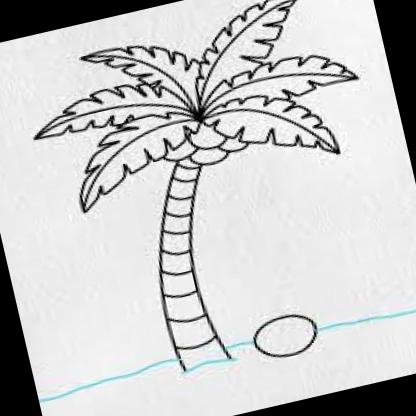crown_dizzy: (12, 0, 379, 227)
root_none: (160, 338, 247, 385)
trunk_bark: (142, 231, 220, 330)
